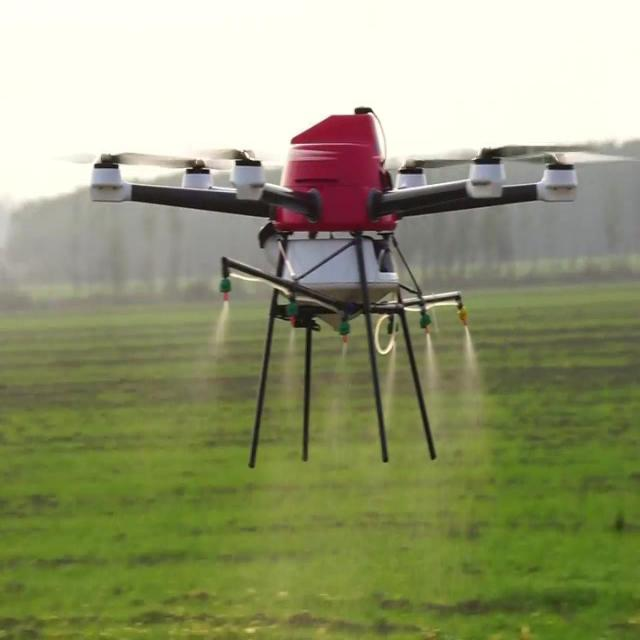UAV: (89, 106, 577, 472)
